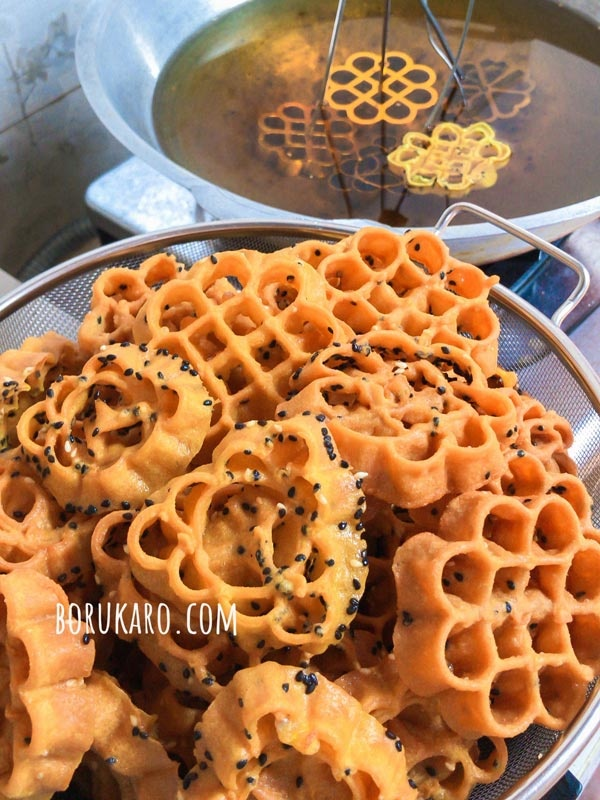kembang_goyang: (408, 456, 600, 731)
